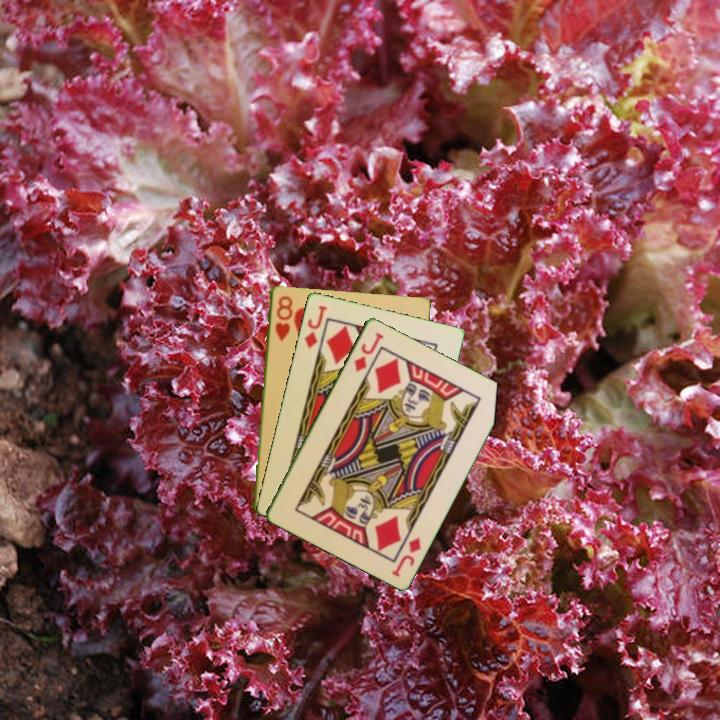8h: (271, 292, 295, 344)
Jd: (350, 329, 387, 375), (388, 533, 424, 579), (301, 302, 329, 351)
